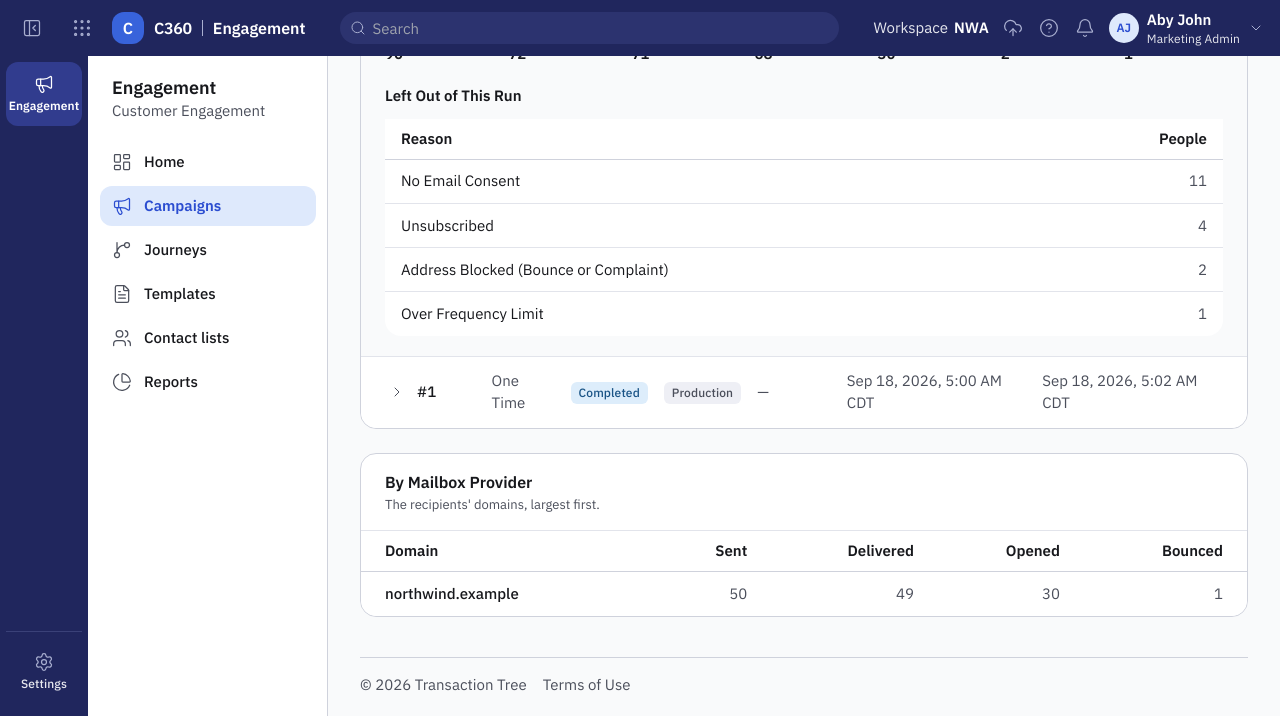
Test: Runs: the latest production run starts open; others open by mouse or keyboard; test runs never open
The width and height of the screenshot is (1280, 716).
(page scrolled)
Expected: the text "On the Lists" is shown, [385,21,456,38]
Expected: the heading "Left Out of This Run" is shown, [385,86,522,105]
Click the button named "Results of run #1": (397, 392) [385,380,409,404]
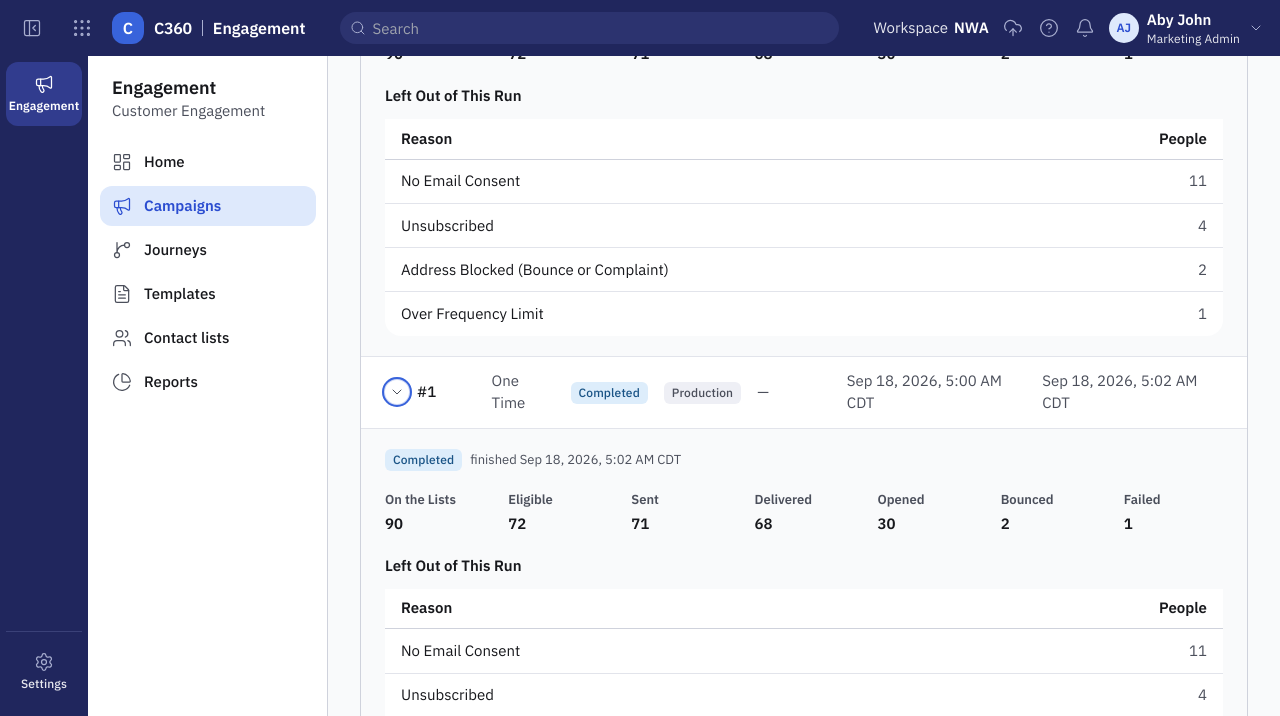
Click the button named "Results of run #1": (397, 392) [385,380,409,404]
(page scrolled)
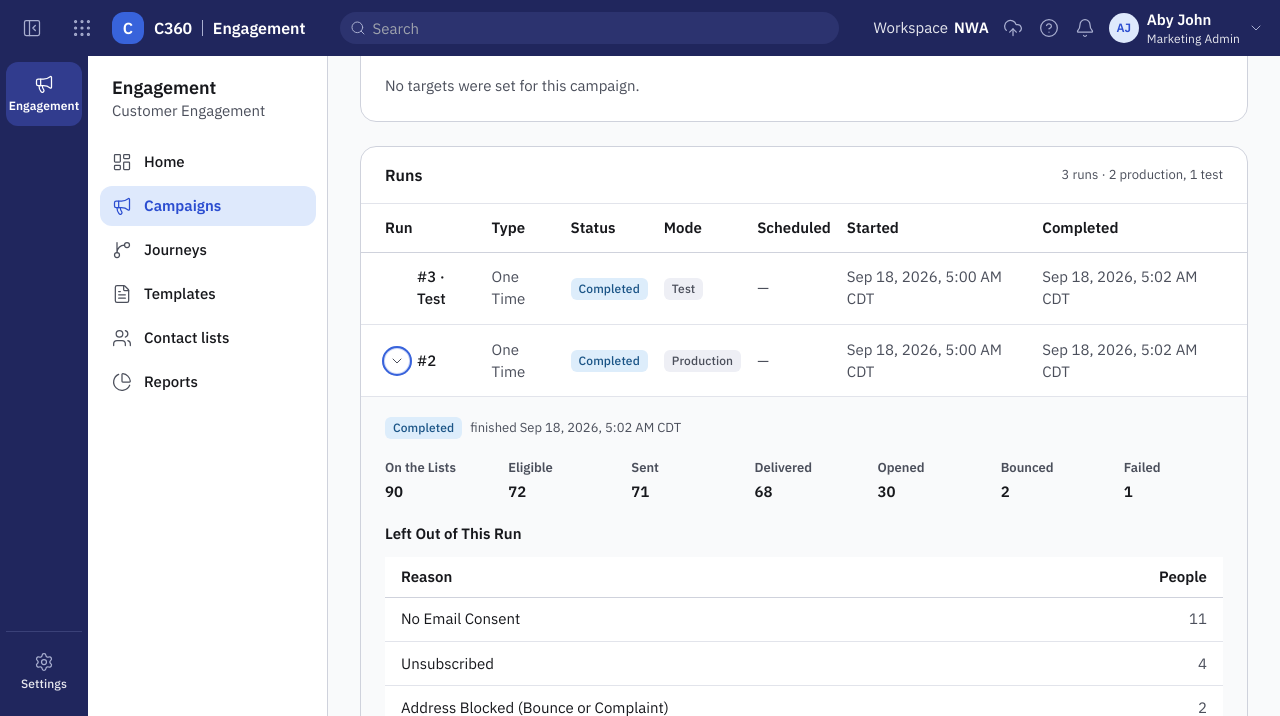
Press Enter
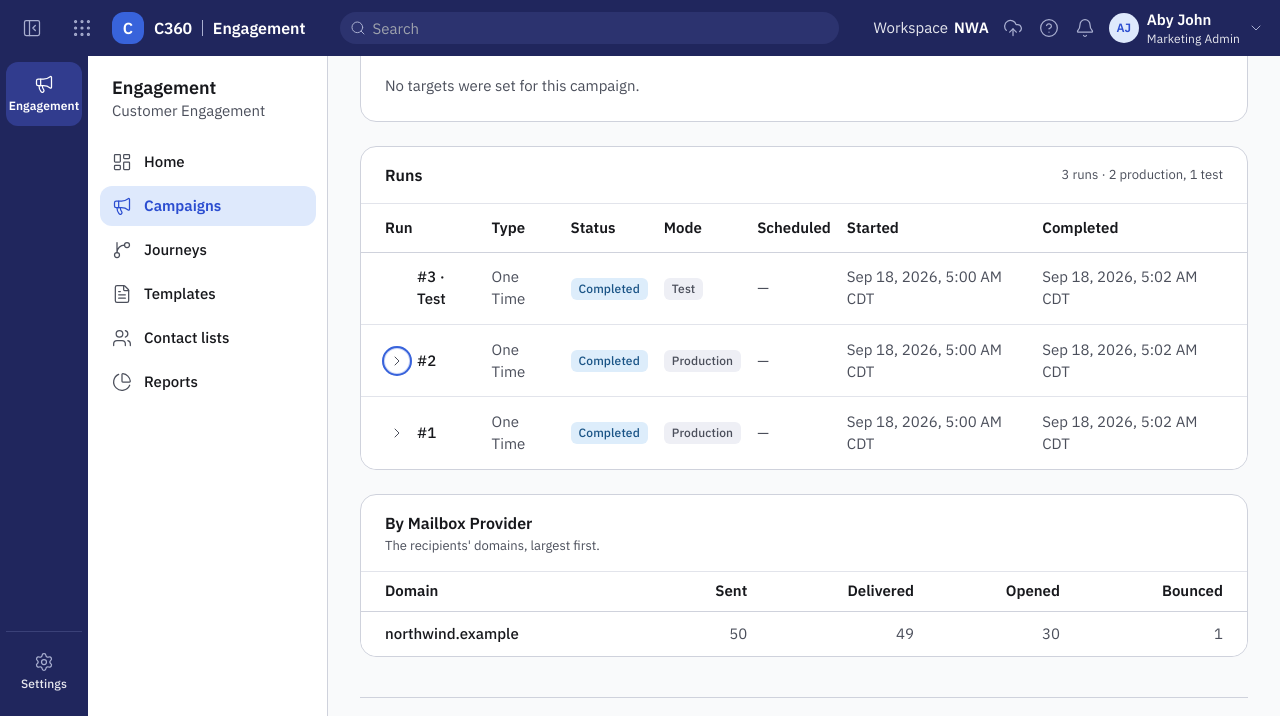
Result: the button named "Results of run #2" is collapsed at [385,348,409,372]
Type keys " "
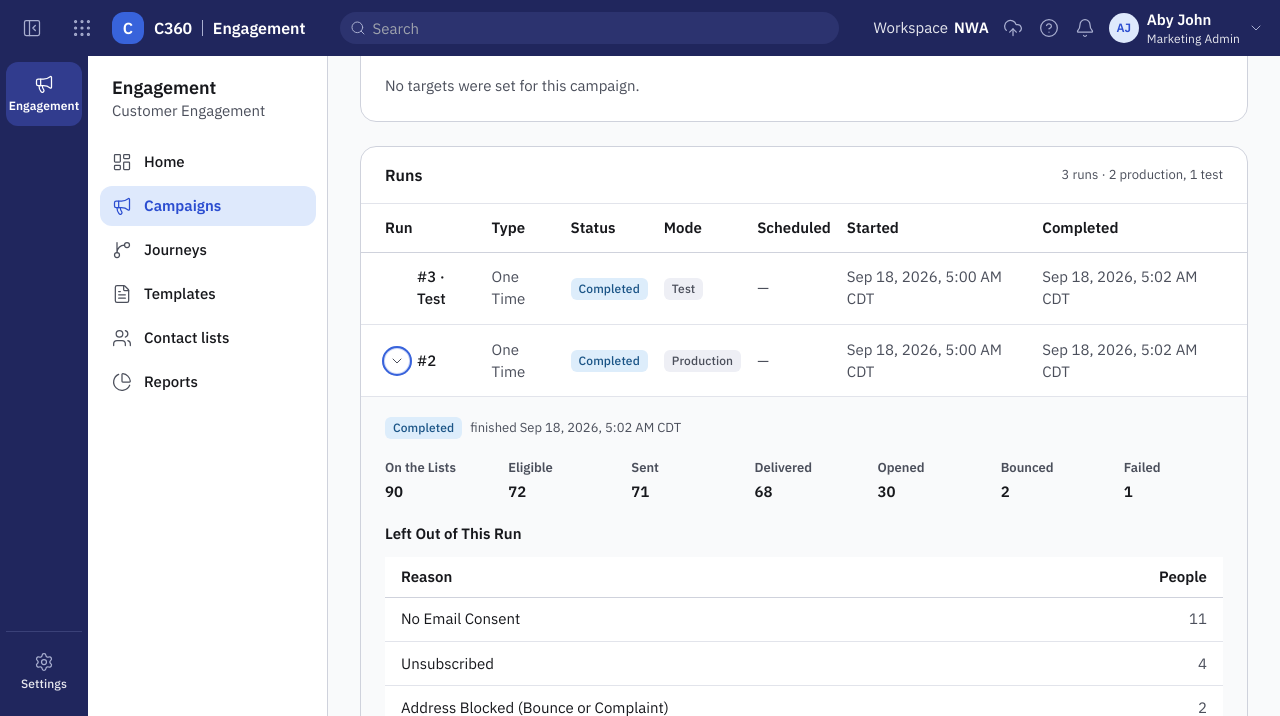
Result: the button named "Results of run #2" is expanded at [385,348,409,372]
